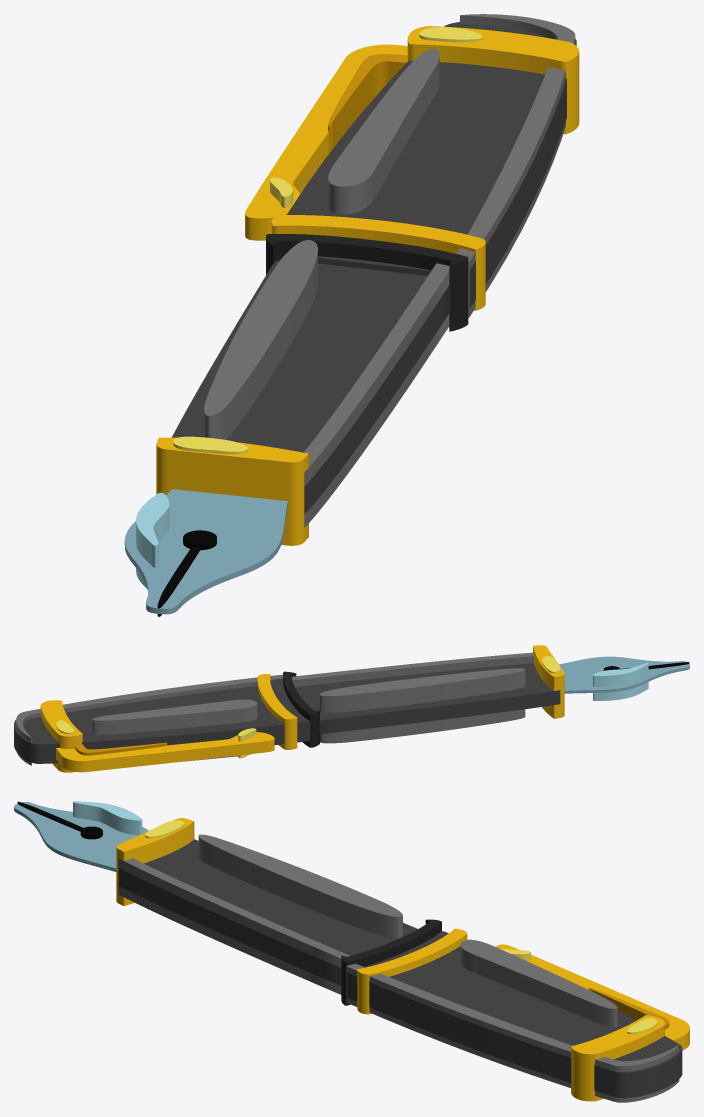
File: emoji_u1f58b.glb
3 renders of one model, top to bottom at view 1: azimuth 30°, elevation 25°; view 2: azimuth 150°, elevation 25°; view 3: azimuth 270°, elevation 25°, orthographic. The views are drawn at different scales.
Parts seen in each view (by area): view 1: emoji_u1f58b; view 2: emoji_u1f58b; view 3: emoji_u1f58b.
Boxes of the visible parts, x1,y1,x2,y2 form: emoji_u1f58b: [124, 14, 579, 616]; emoji_u1f58b: [14, 645, 689, 772]; emoji_u1f58b: [14, 801, 689, 1102].
Bounding box in the file's own units: 0.0333 × 0.0034 × 0.0338.
